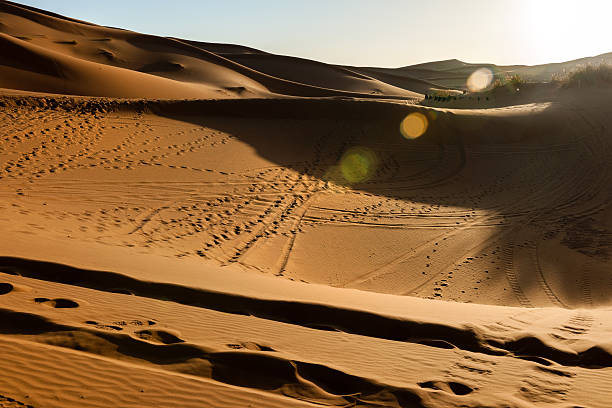animal_foot_print: (0, 110, 347, 267), (16, 113, 295, 262), (130, 195, 255, 257), (0, 111, 102, 180), (228, 195, 309, 261), (424, 352, 495, 394), (277, 198, 310, 275), (529, 241, 567, 307), (519, 365, 573, 403), (502, 243, 531, 306), (485, 309, 540, 332), (555, 310, 593, 337), (451, 354, 495, 375), (418, 380, 473, 394), (134, 329, 183, 344), (85, 320, 156, 330), (536, 363, 575, 377), (226, 341, 275, 351), (34, 297, 78, 307), (580, 270, 592, 306), (514, 355, 553, 366), (416, 339, 456, 349), (0, 395, 33, 407), (0, 282, 31, 294), (85, 320, 122, 330), (111, 319, 156, 327), (115, 320, 156, 326), (0, 282, 13, 294), (109, 288, 132, 294)
